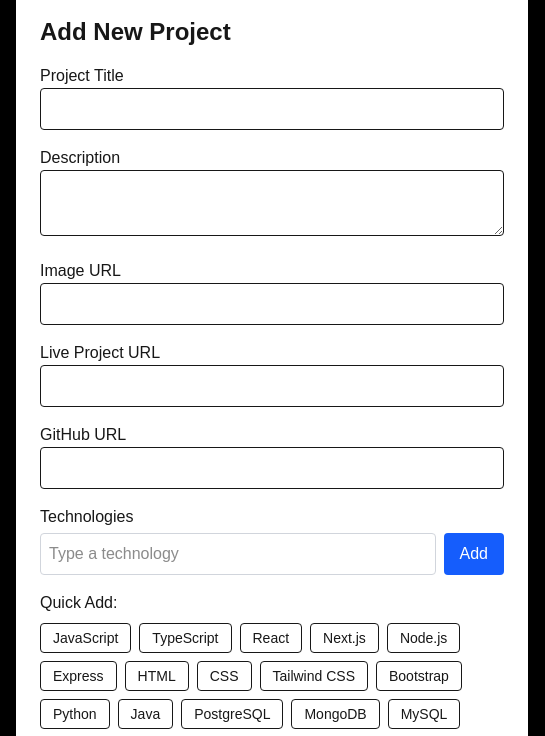
Test: Form Integration Tests › should show loading state during submission
This screenshot has width=545, height=736.
# Fill required fields
In the field labelled "Project Title": coordinates (272, 109) [40, 88, 504, 130], type "Test Project"
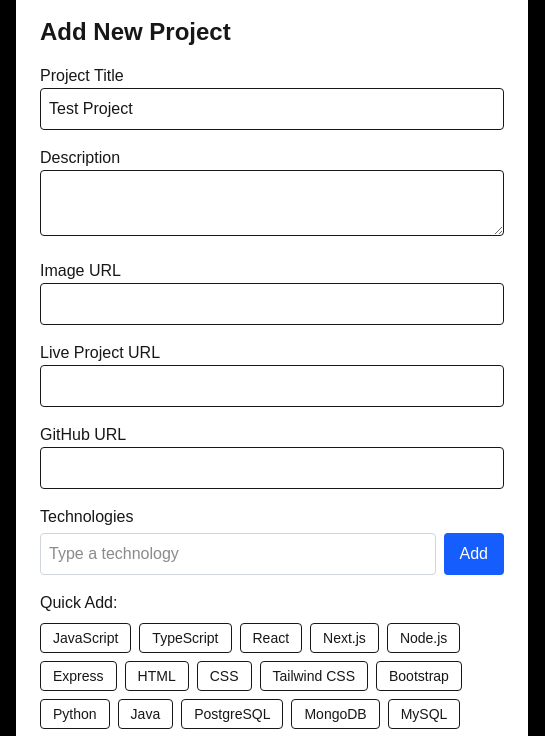
In the text box labelled "Description": coordinates (272, 203) [40, 170, 504, 236], type "Test description"
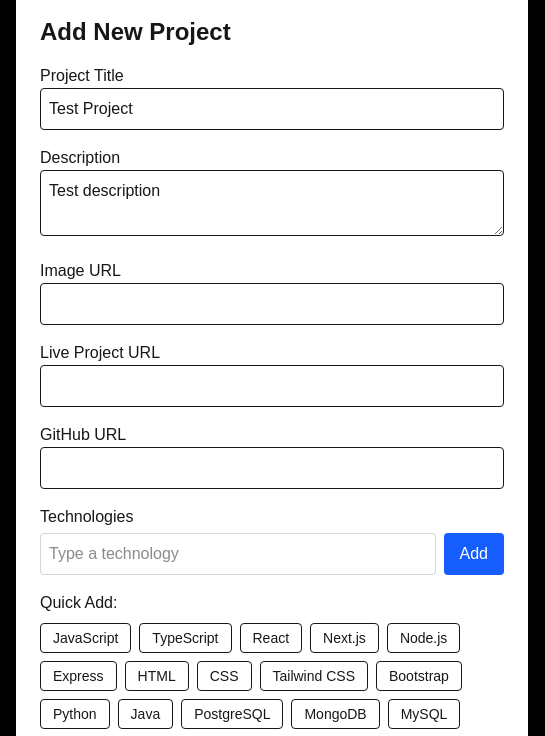
# Add a technology
In the field with placeholder "Type a technology": coordinates (238, 554) [40, 533, 436, 575], type "React"
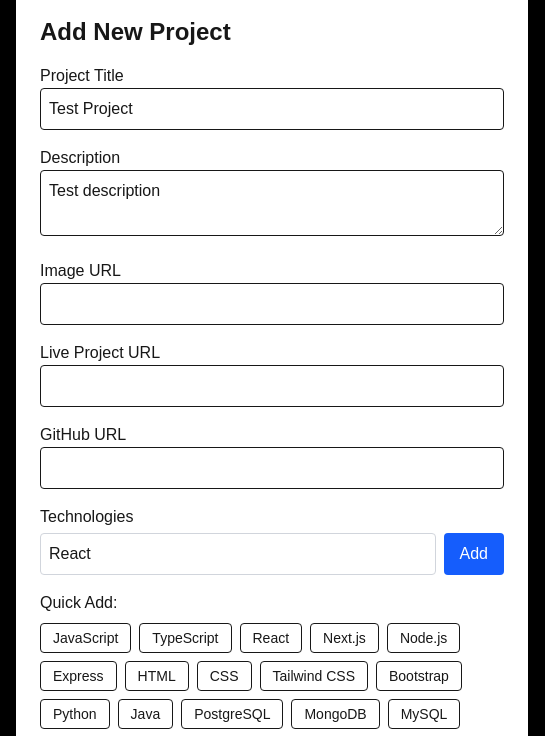
Click the button "Add": coordinates (474, 554) [444, 533, 504, 575]
(page scrolled)
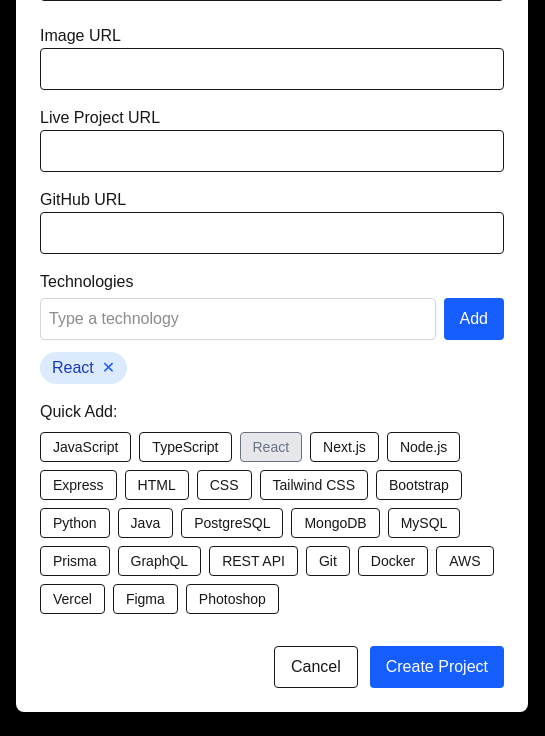
Click the button "Create Project": coordinates (437, 667) [370, 646, 504, 688]
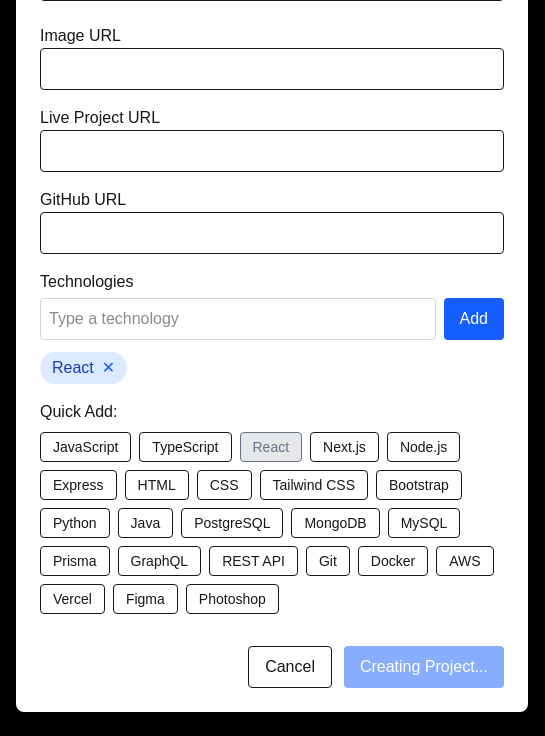
Result: the button "Creating Project..." is disabled at [344, 646, 504, 688]
